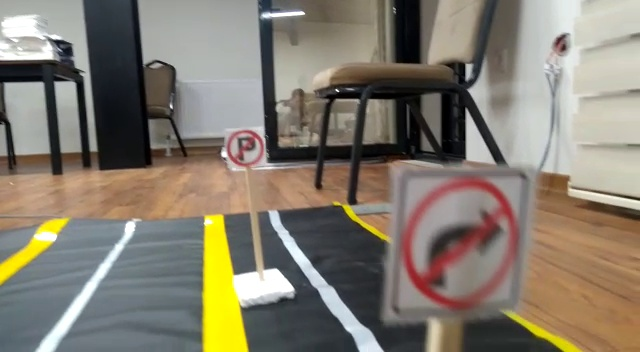park_yapilmaz: (223, 130, 265, 171)
saga_donulmez: (390, 172, 526, 307)
